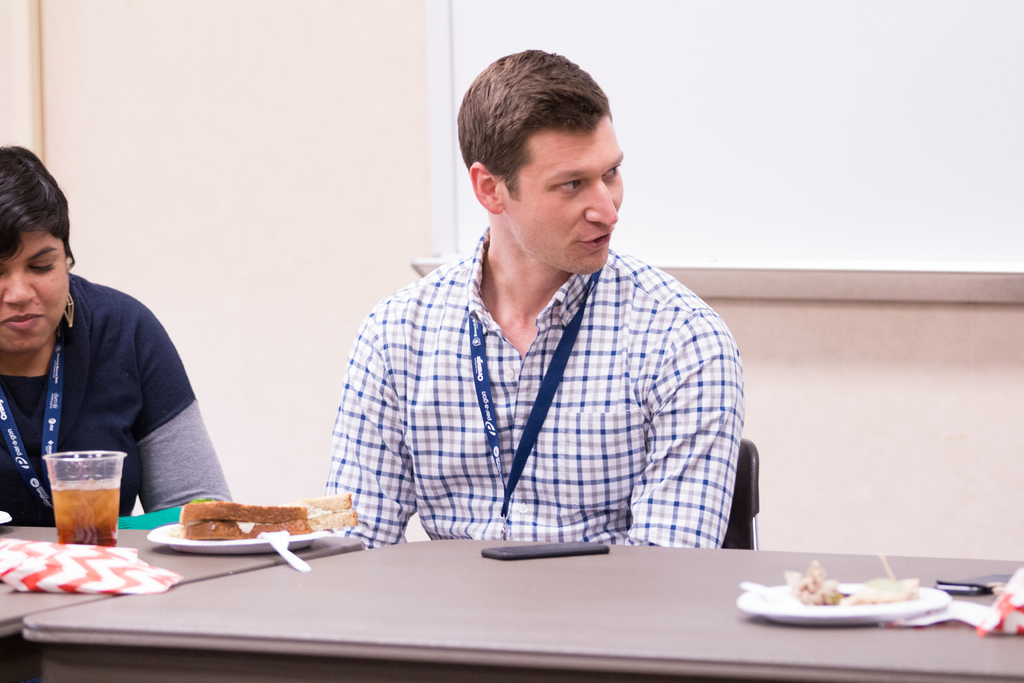Beer: (54, 479, 124, 551)
